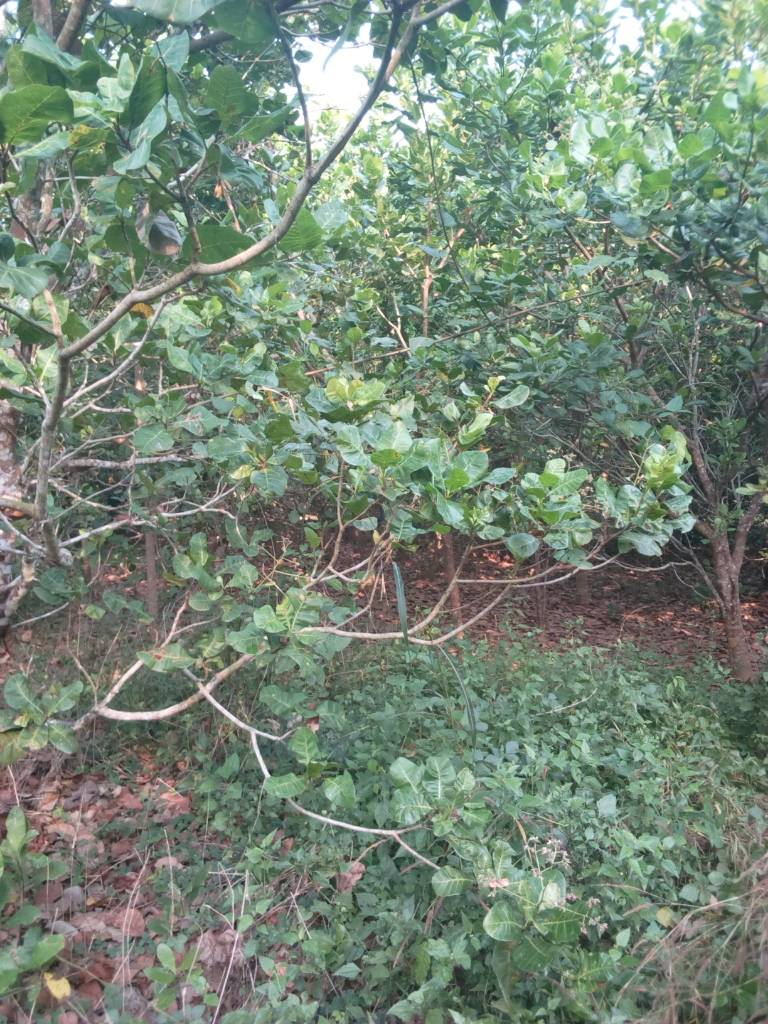Helopeltis anacardii: (1, 86, 71, 146)
